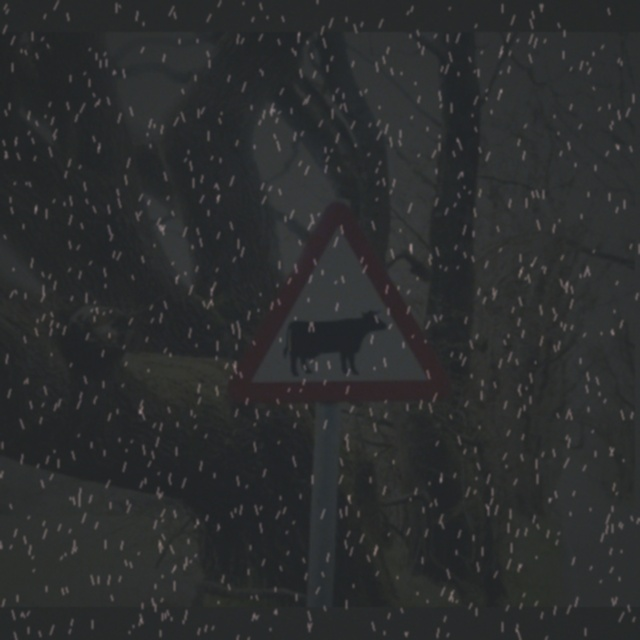Cattle: (231, 200, 460, 405)
